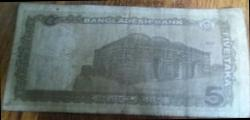5 taka: (15, 4, 240, 112)
